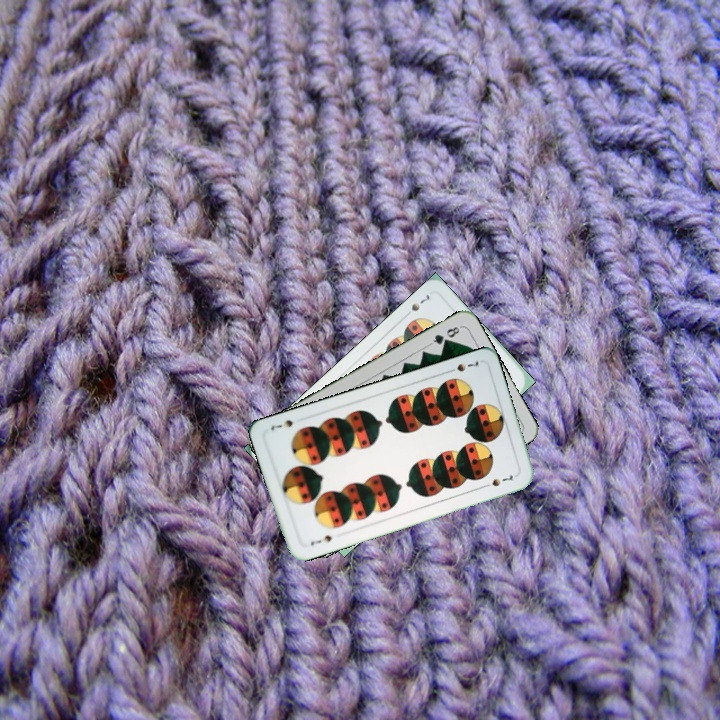G8: (426, 322, 464, 348)
S7: (400, 290, 432, 320), (443, 357, 481, 376), (306, 531, 335, 548)
